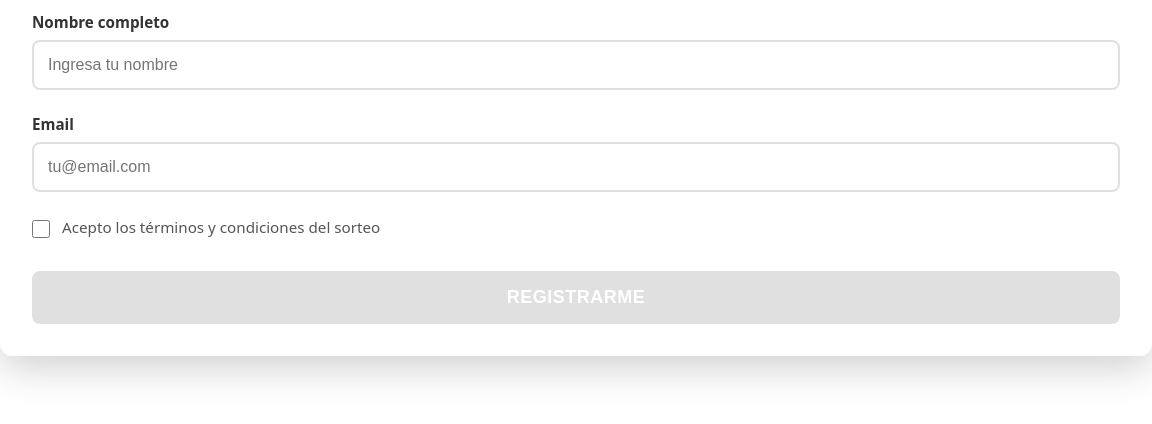
Test: RegistrationForm › valida que el nombre tenga al menos 2 caracteres
Type "test@example.com" into the field with id "email" at (576, 167), box [32,142,1120,192]
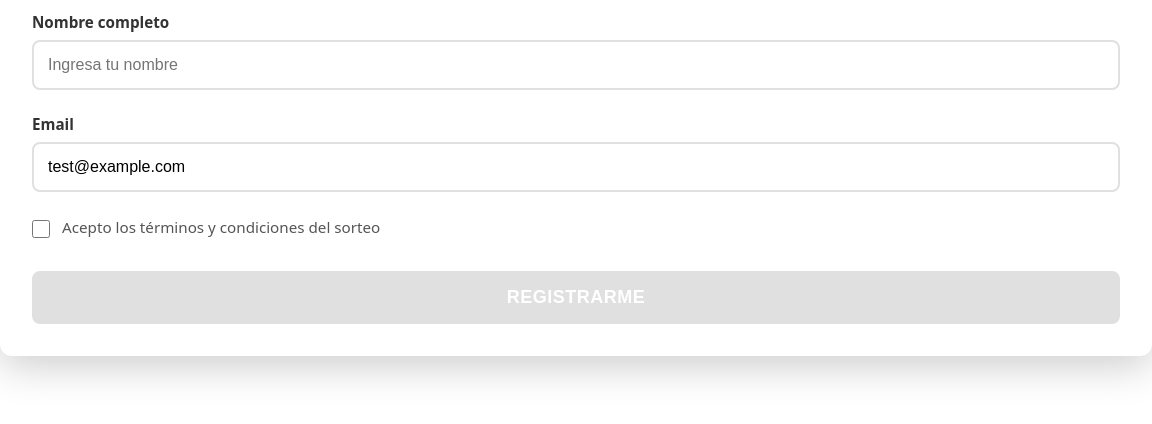
Click the checkbox with id "terms" at (41, 229), box [32,220,50,238]
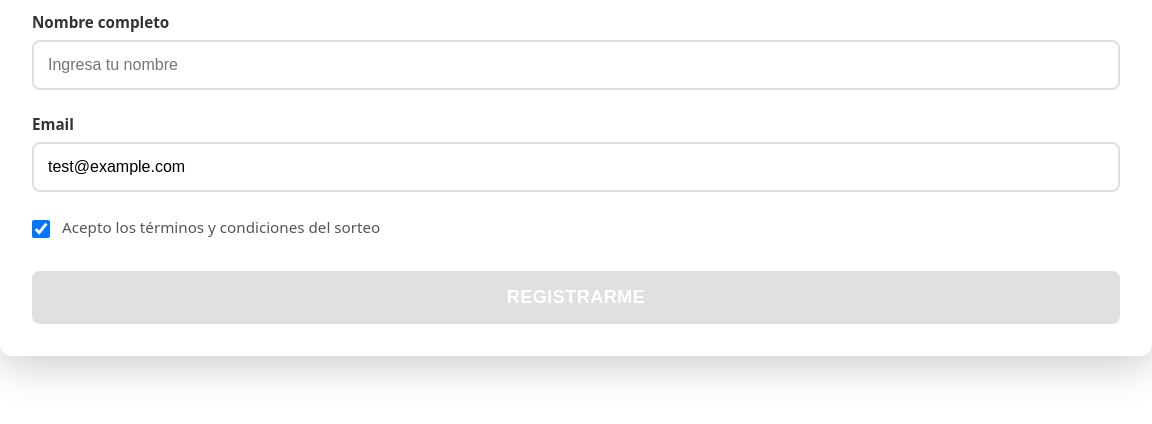
Nombre con 1 carácter
Type "A" into the field with id "name" at (576, 65), box [32,40,1120,90]
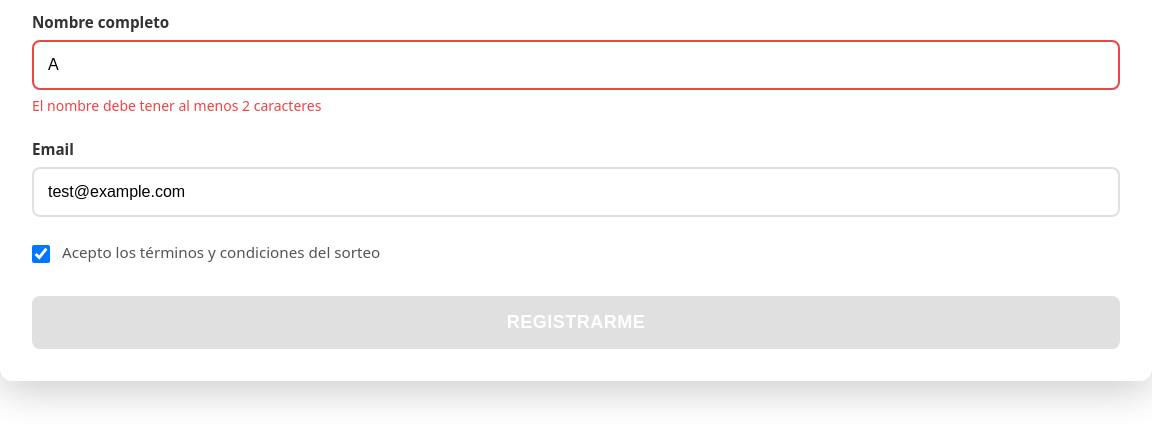
Expected: the submit button is disabled, [32,296,1120,349]
Nombre con 2 caracteres
Replace the text in the field with id "name" with "AB" at (576, 65), box [32,40,1120,90]
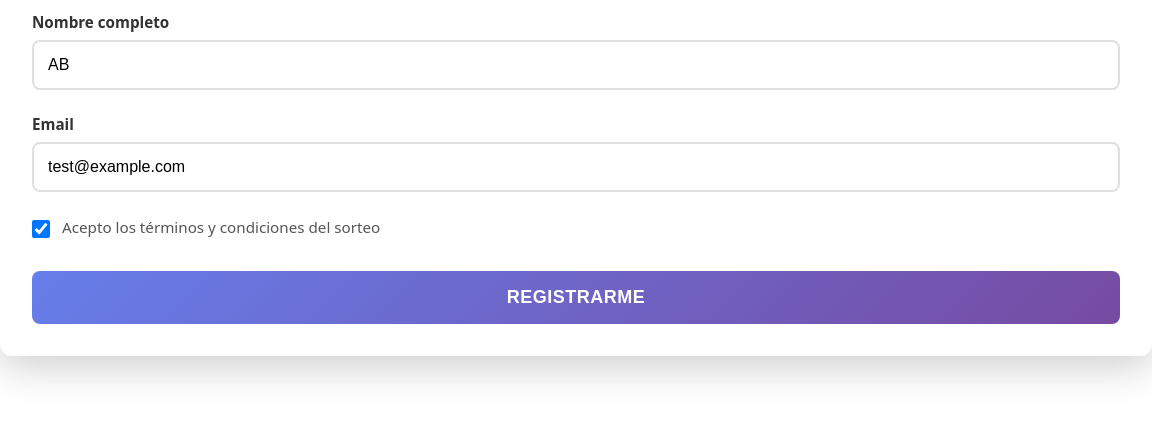
Result: the submit button is enabled at [32,271,1120,324]
